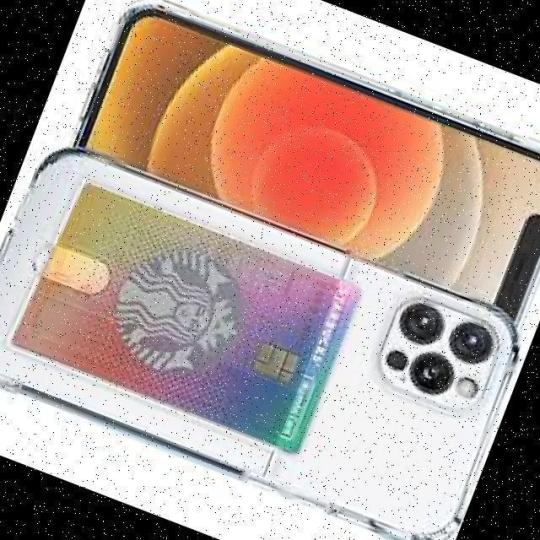phone: (0, 150, 515, 540), (62, 7, 539, 336)
